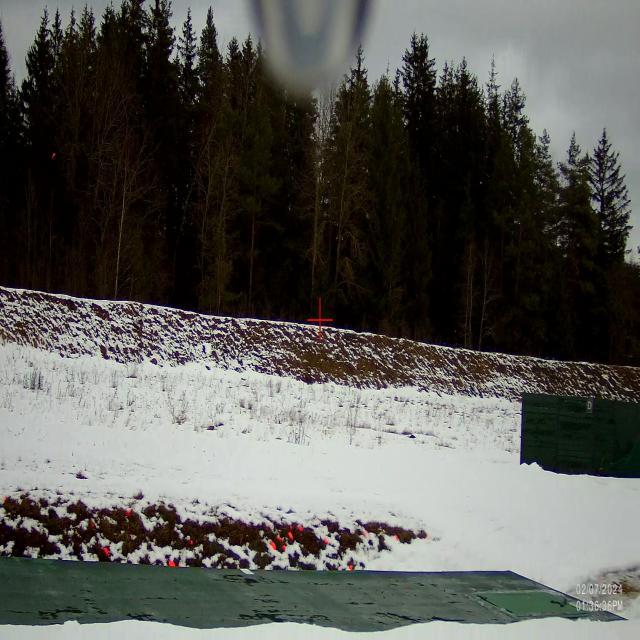entire: (47, 144, 60, 167)
